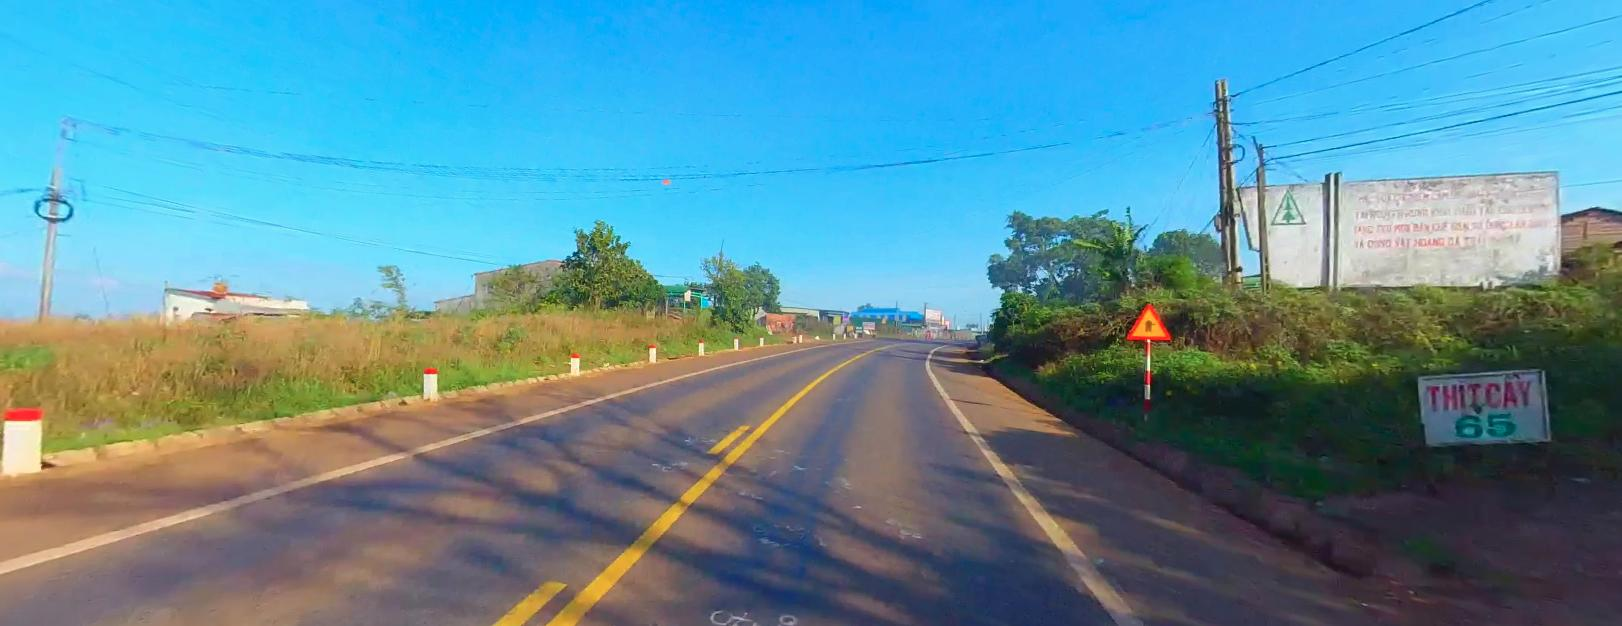Nguy hiem: (1125, 300, 1172, 340)
